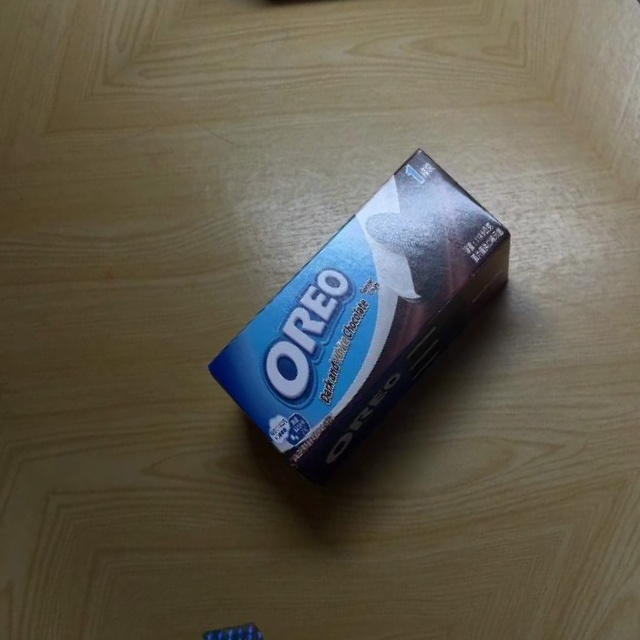Oreo: (185, 138, 552, 487)
